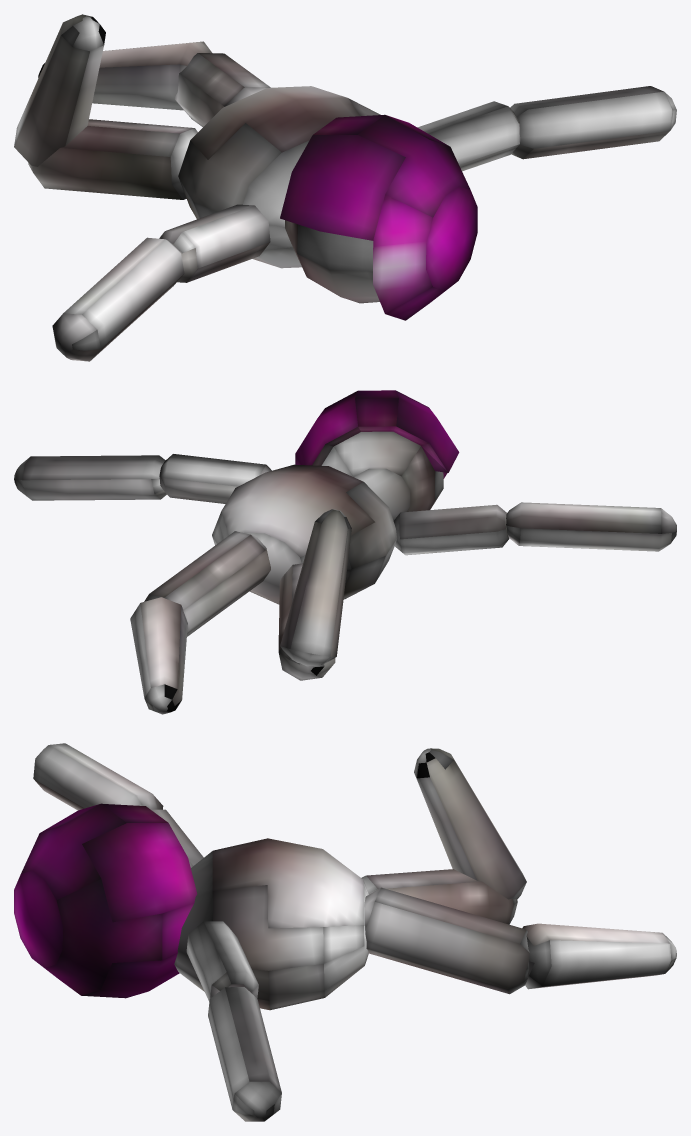
The model's file is stuntman_splat.obj.
3 renders of one model, top to bottom at view 1: azimuth 30°, elevation 25°; view 2: azimuth 150°, elevation 25°; view 3: azimuth 270°, elevation 25°, orthographic. The views are drawn at different scales.
Parts seen in each view (by area): view 1: Object016; view 2: Object016; view 3: Object016.
Part boxes in pixels (x1=…): Object016: x1=14, y1=14, x2=676, y2=361; Object016: x1=14, y1=390, x2=676, y2=714; Object016: x1=14, y1=743, x2=676, y2=1121.
Bounding box in the file's own units: 17.76 × 4.79 × 15.08.
1 material, 1 textured.
